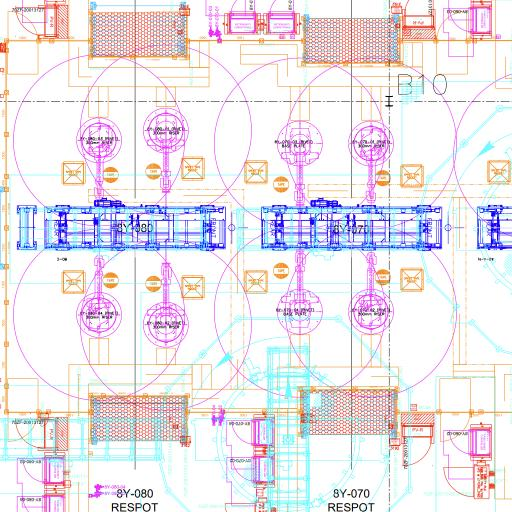robot: (274, 244, 324, 336), (74, 114, 124, 204), (275, 118, 325, 207), (345, 119, 396, 204), (74, 254, 124, 339), (142, 106, 190, 194), (141, 262, 190, 348), (346, 253, 395, 336)
